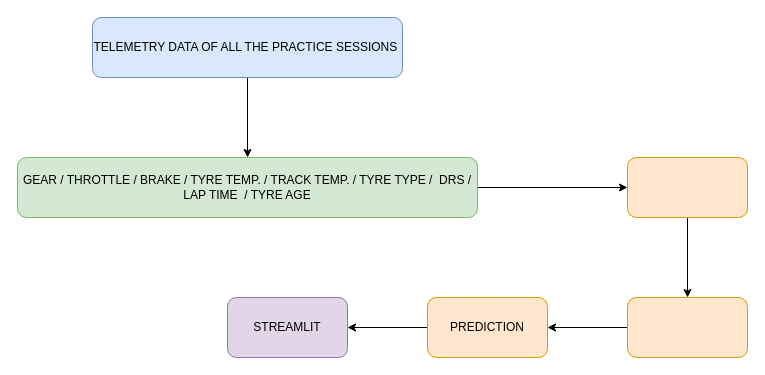
This 765x375 diagram has some shape labels left out. Each missing label, with the centre of its shape:
"DATA PROCESSING" belongs at point (687, 187).
"MODEL TRAINING" belongs at point (687, 327).
